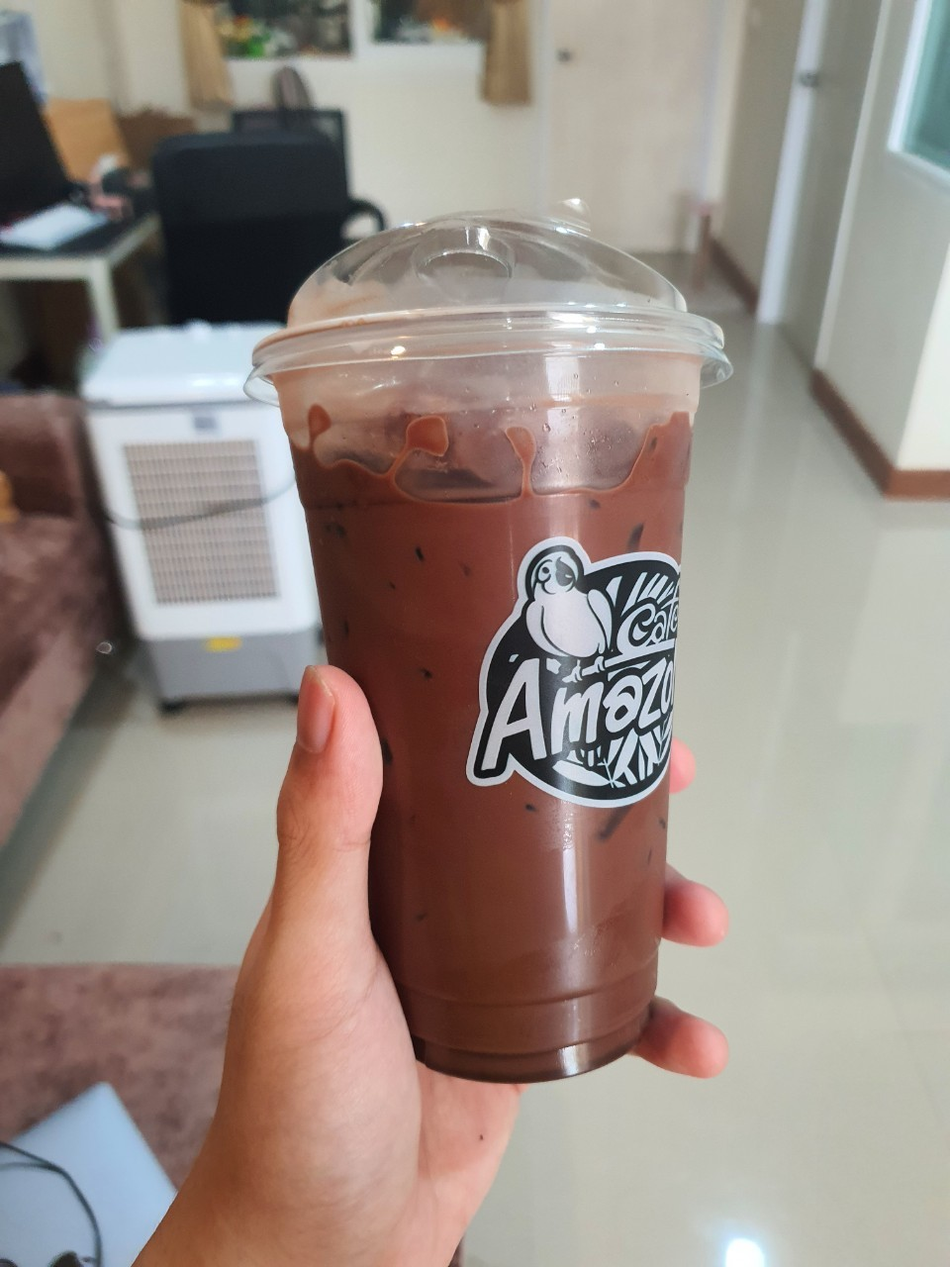plastic: (243, 194, 748, 1102)
